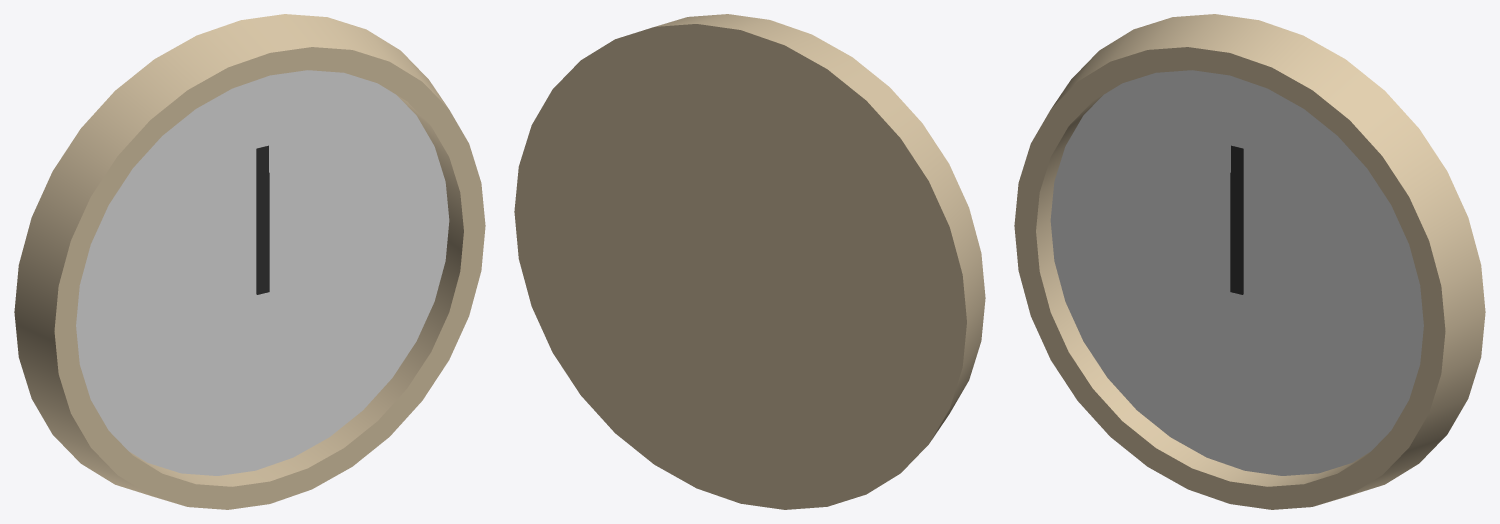
The model's file is wall-clock.glb.
3 renders of one model, left to right at view 1: azimuth 30°, elevation 25°; view 2: azimuth 150°, elevation 25°; view 3: azimuth 330°, elevation 25°, orthographic.
Parts seen in each view (by area): view 1: Body, HandH; view 2: Body; view 3: Body, HandH.
Boxes of the visible parts, left/top/right/bottom form: Body: left=14, top=14, right=485, bottom=509; HandH: left=257, top=172, right=269, bottom=294; Body: left=514, top=14, right=985, bottom=509; Body: left=1014, top=14, right=1485, bottom=509; HandH: left=1230, top=172, right=1242, bottom=294.
Size of the model in its own units: 0.357 by 0.357 by 0.04.
